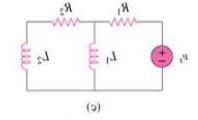inductor: (18, 35, 36, 73), (80, 39, 98, 72)
